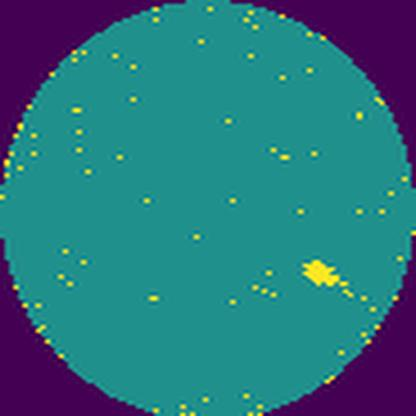Loc: (302, 258, 342, 291)
